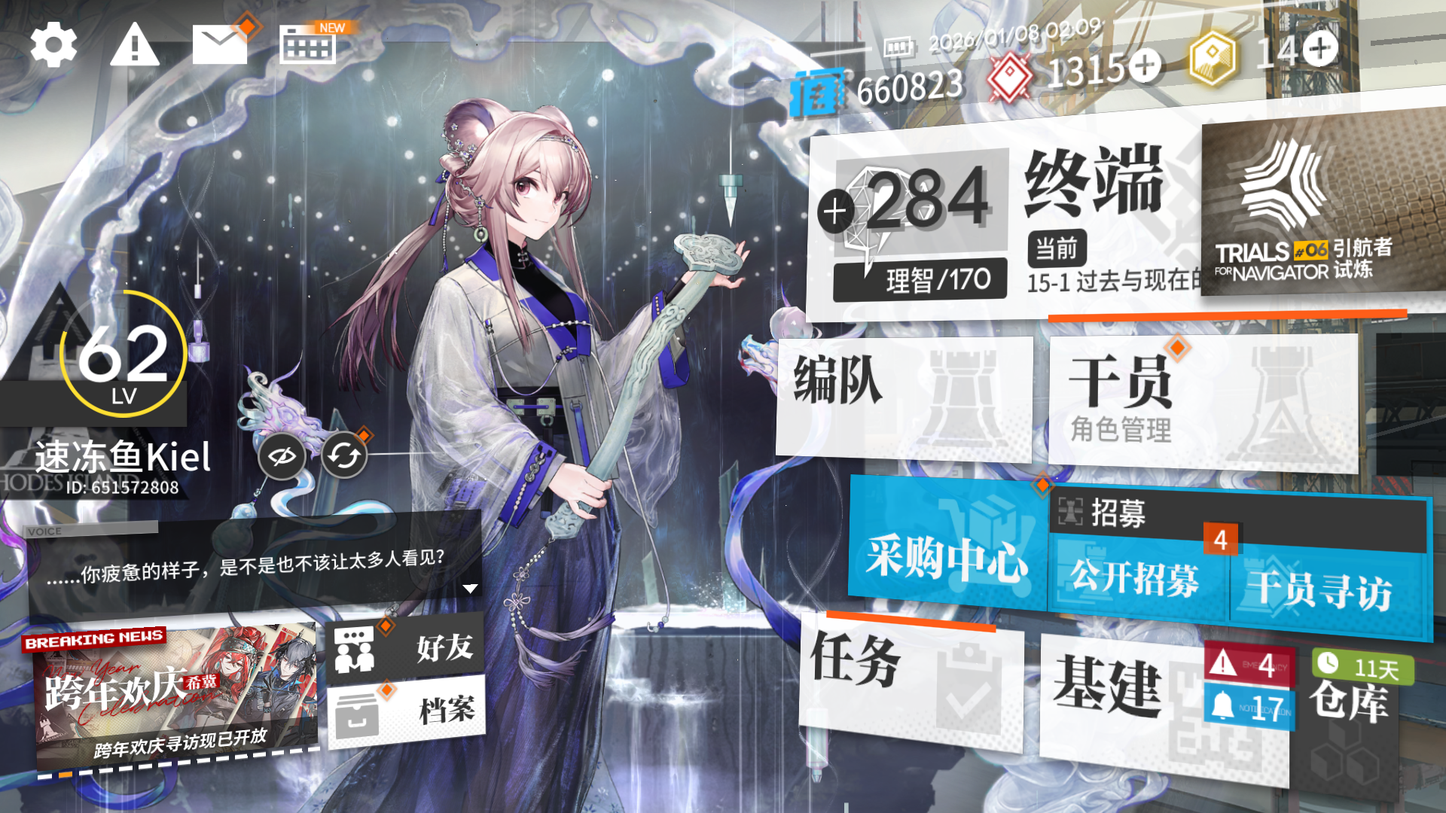home_button: (1017, 145, 1202, 230)
infrastructure_button: (1028, 644, 1301, 781)
